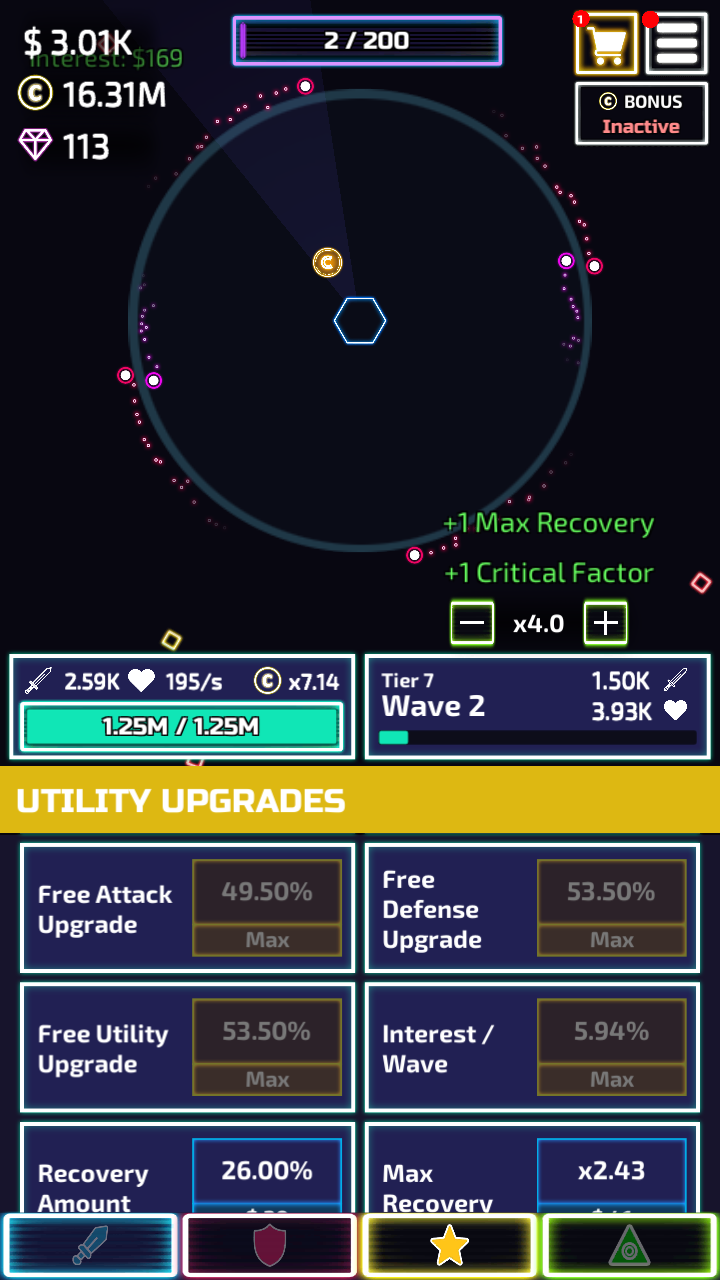B_Menu_Action_Required: (638, 6, 703, 72)
B_Menu_Closed: (573, 11, 708, 74)
B_Shop_Action_Required: (0, 766, 720, 839), (570, 9, 637, 73)
B_Slot: (19, 984, 353, 1109), (364, 845, 700, 969), (17, 843, 354, 966), (367, 985, 699, 1108), (362, 1124, 695, 1213), (20, 1123, 349, 1213)
B_Slot_Button: (189, 1001, 344, 1098), (532, 1002, 687, 1097), (533, 861, 687, 955), (190, 862, 343, 955), (187, 1137, 344, 1212), (533, 1137, 688, 1211)
B_Slot_Label: (369, 861, 495, 959), (22, 1015, 174, 1084), (22, 876, 178, 943), (370, 1016, 504, 1081), (368, 1156, 507, 1216), (23, 1155, 162, 1213)
B_Slot_Maxed: (188, 995, 343, 1099), (531, 998, 685, 1100), (188, 857, 342, 957), (532, 858, 684, 959)
B_Slot_Value: (201, 1148, 327, 1189), (547, 873, 667, 911), (205, 872, 324, 908), (553, 1012, 664, 1050), (205, 1013, 322, 1048), (557, 1151, 660, 1189)
